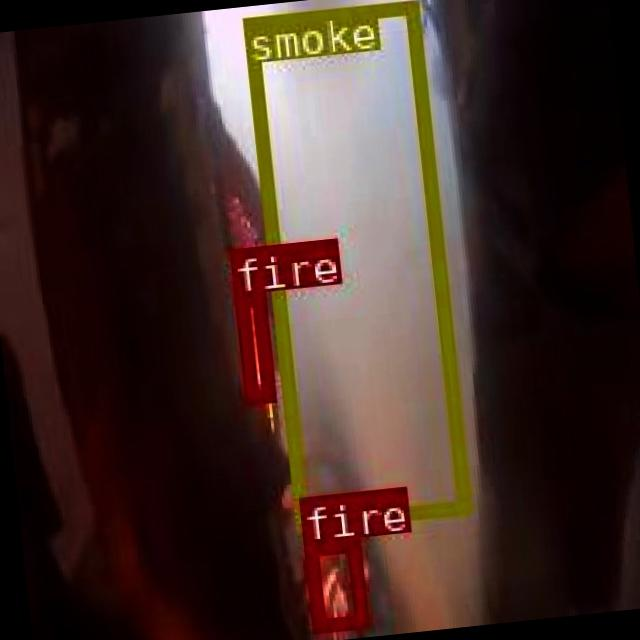fire: (300, 536, 365, 628), (232, 290, 274, 402)
smoke: (240, 0, 469, 529)
